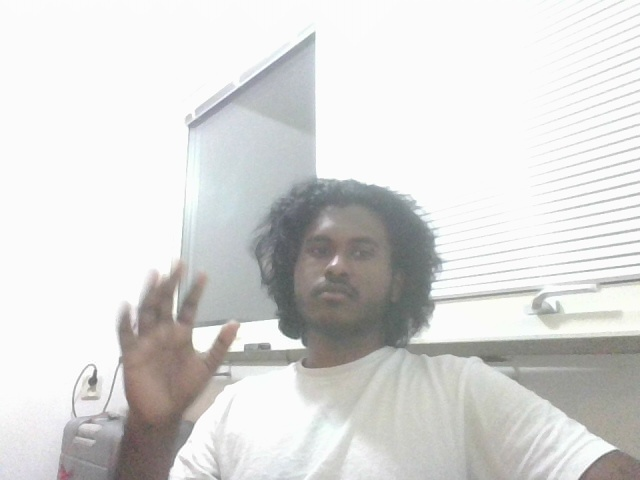hello: (107, 257, 247, 438)
